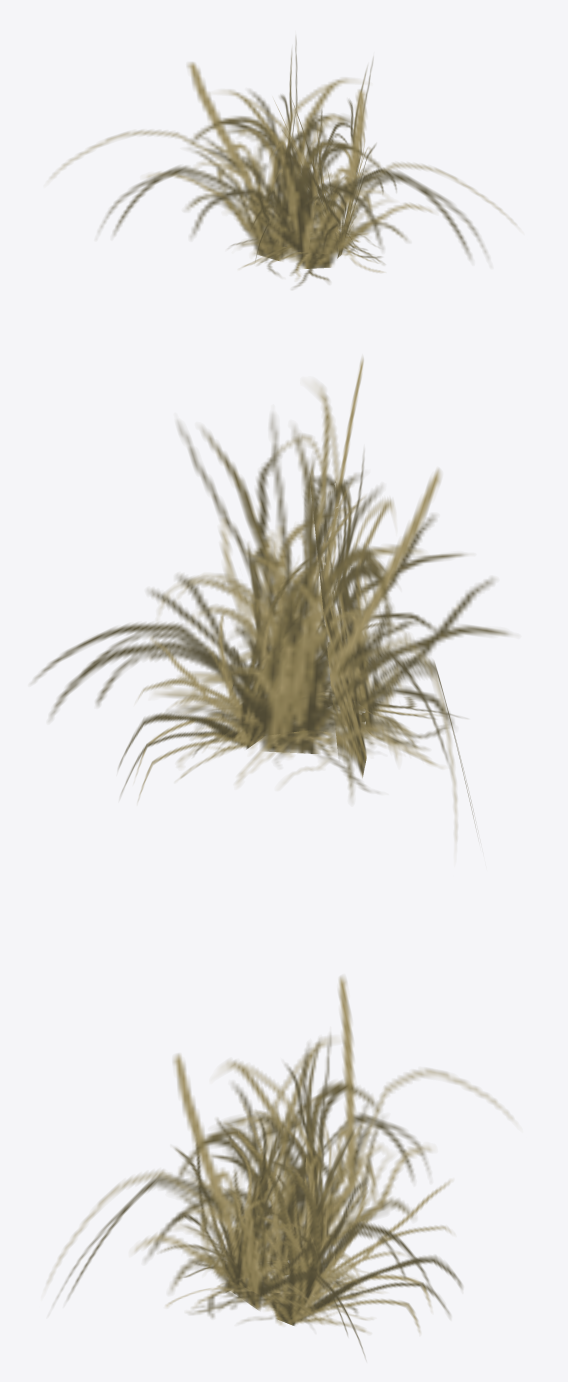
Rendered from ichu_02.glb.
The picture shows the model from 3 angles, top to bottom: view 1: azimuth 30°, elevation 25°; view 2: azimuth 150°, elevation 25°; view 3: azimuth 270°, elevation 25°; orthographic projection. The views are drawn at different scales.
Parts seen in each view (by area): view 1: Ichu; view 2: Ichu; view 3: Ichu.
Part boxes in pixels (x1,y1,x2,y2): Ichu: (50, 39, 515, 287); Ichu: (33, 357, 510, 840); Ichu: (47, 976, 512, 1358).
Bounding box in the file's own units: 0.4765 × 0.34 × 0.5125.
Materials: 1 (1 with a texture image).
